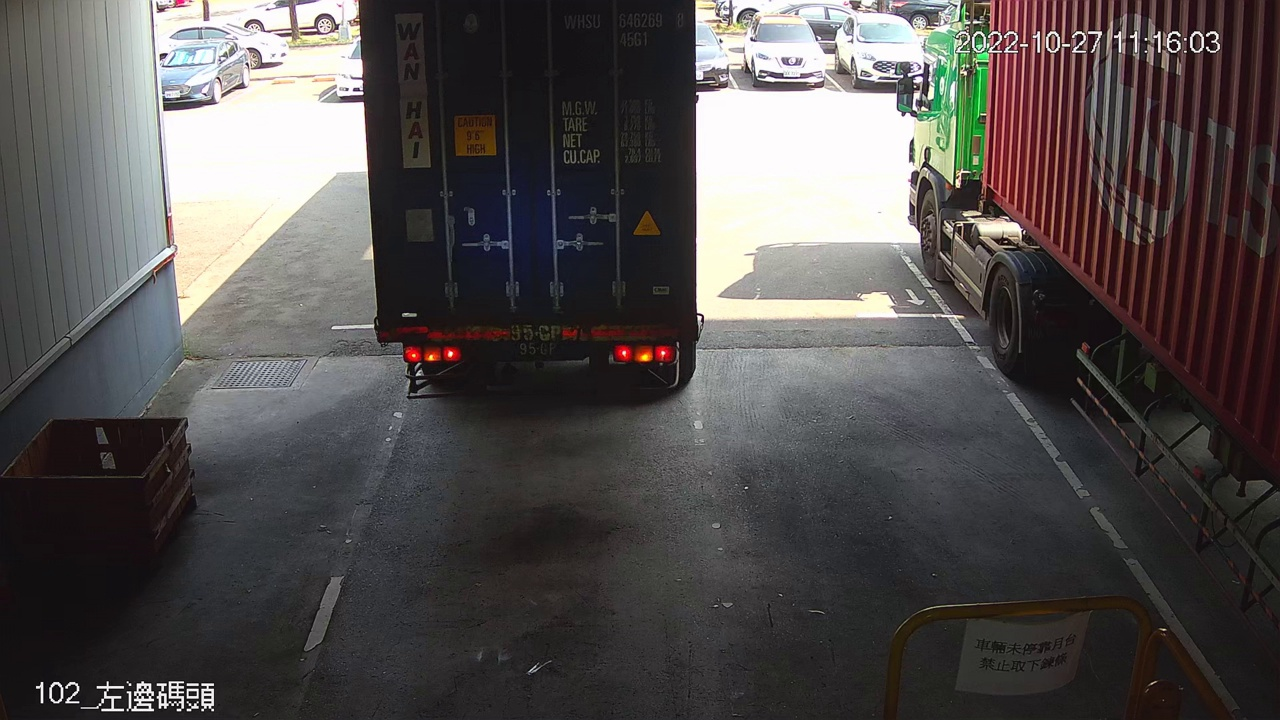container: (559, 6, 690, 53)
